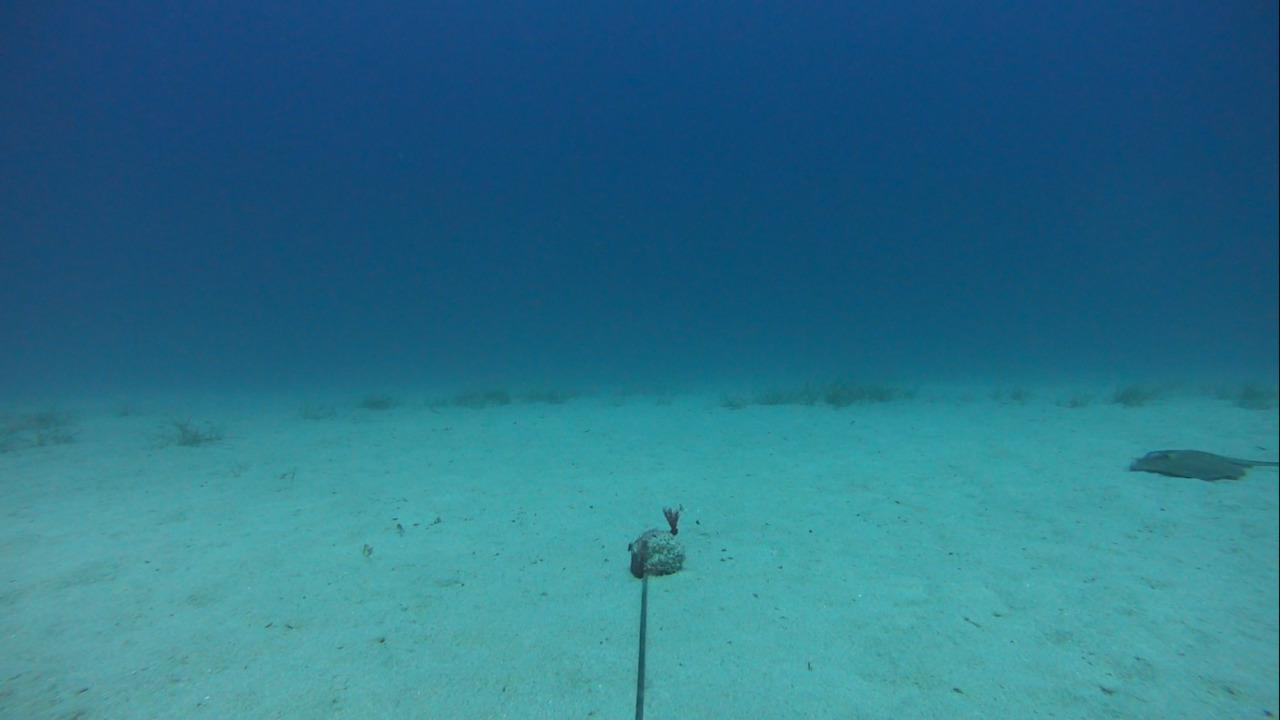myliobatis: (1120, 445, 1279, 483)
